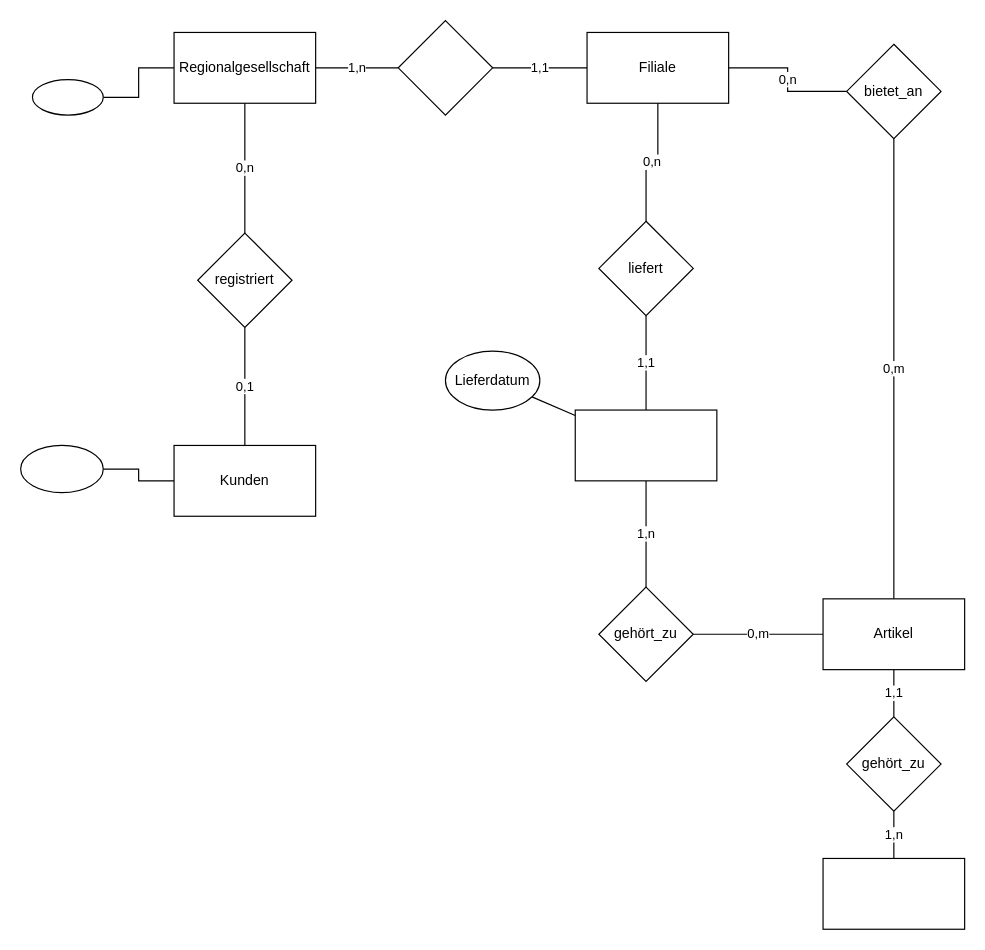
Image size: 985x950. Some labels were removed from this diagram. The box of each missing label's shape, as (x1, y1, x2, y2) in pixels:
Betrieb: (397, 19, 493, 115)
KundenID: (19, 444, 103, 493)
Lieferant: (822, 857, 965, 929)
Lieferung: (574, 409, 717, 481)
Region: (31, 78, 103, 115)
